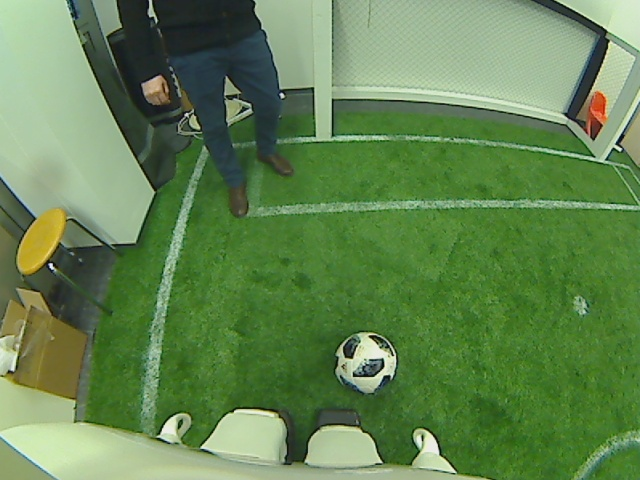ball: (331, 327, 398, 395)
